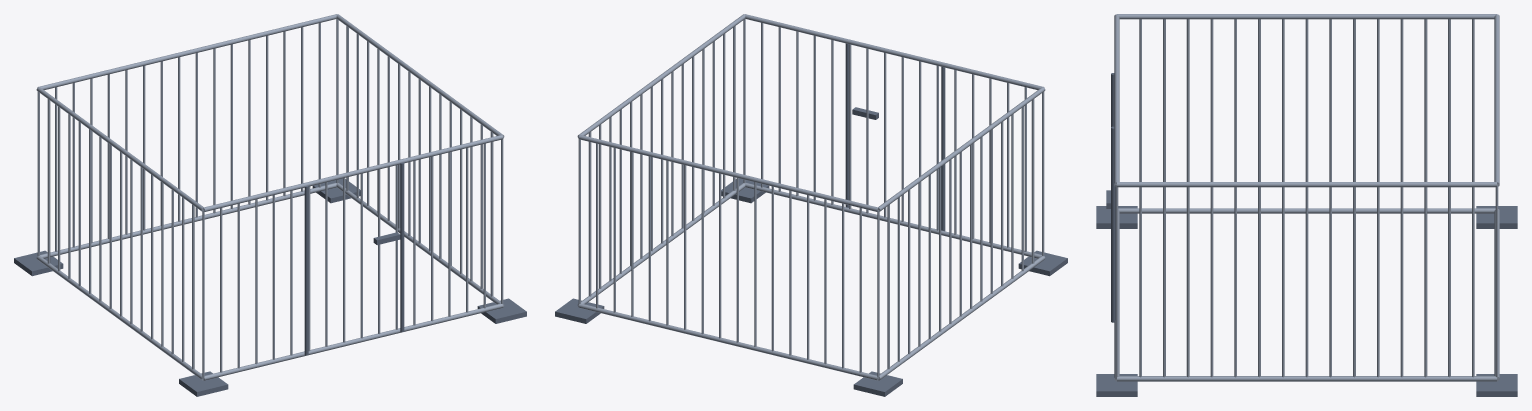
File: pet-pen-lite.glb
The picture shows the model from 3 angles, left to right: view 1: azimuth 30°, elevation 25°; view 2: azimuth 150°, elevation 25°; view 3: azimuth 270°, elevation 25°; orthographic projection. The views are drawn at different scales.
Parts seen in each view (by area): view 1: body, dark; view 2: body, dark; view 3: body, dark.
Boxes of the visible parts, <box> form: body: <box>36,14,504,380</box>; dark: <box>14,162,526,396</box>; body: <box>577,14,1045,380</box>; dark: <box>555,43,1067,396</box>; body: <box>1114,14,1499,381</box>; dark: <box>1096,73,1517,396</box>.
Bounding box in the file's own units: 1.27 × 0.658 × 1.22.
